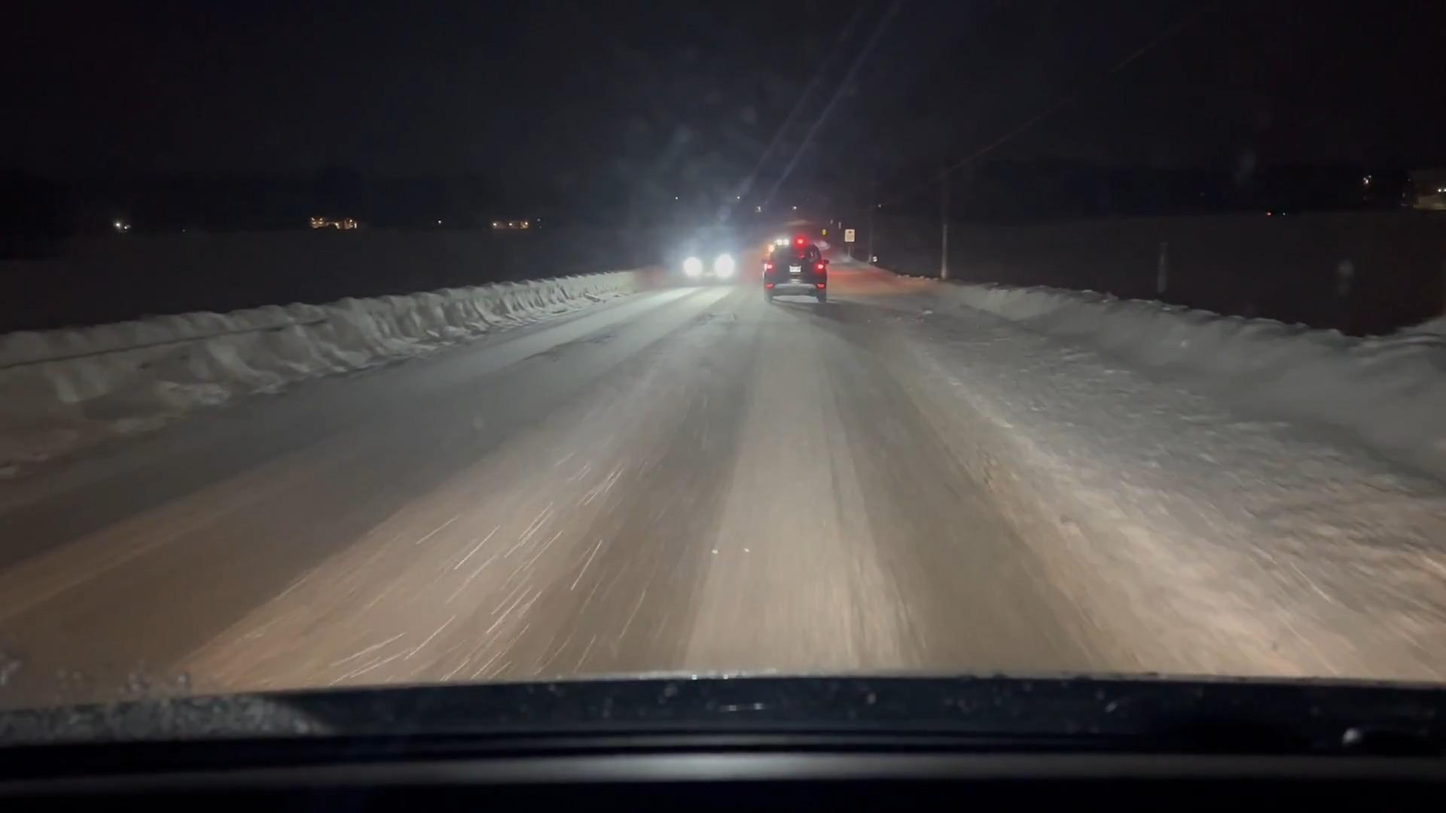Snow: (0, 266, 1446, 698)
